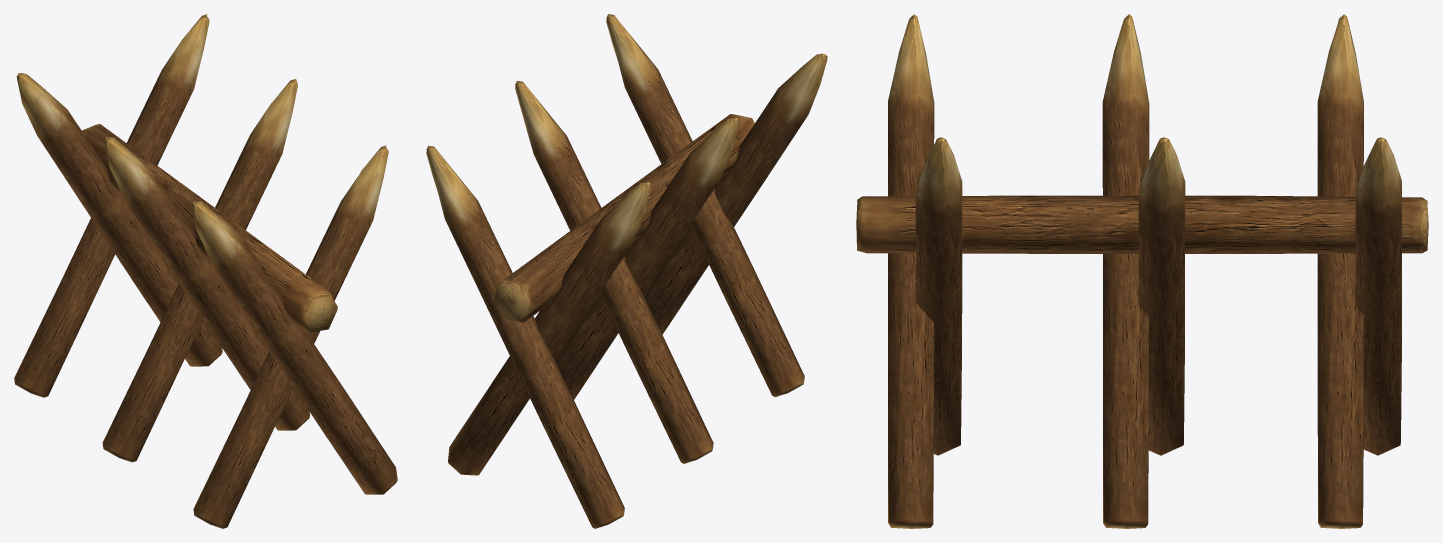
Rendered from fence_02.FBX.
3 renders of one model, left to right at view 1: azimuth 30°, elevation 25°; view 2: azimuth 150°, elevation 25°; view 3: azimuth 270°, elevation 25°, orthographic. The views are drawn at different scales.
Visible parts, largest first — view 1: fence_02; view 2: fence_02; view 3: fence_02.
Part boxes in pixels (left/top/right/bottom): fence_02: left=14, top=14, right=397, bottom=528; fence_02: left=426, top=14, right=827, bottom=528; fence_02: left=856, top=14, right=1428, bottom=528.
Bounding box in the file's own units: 16.03 × 25.1 × 31.11.
